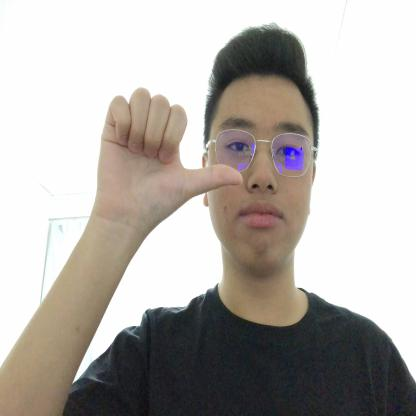left: (97, 81, 245, 236)
